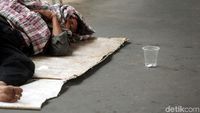gelandangan: (1, 1, 132, 108)
